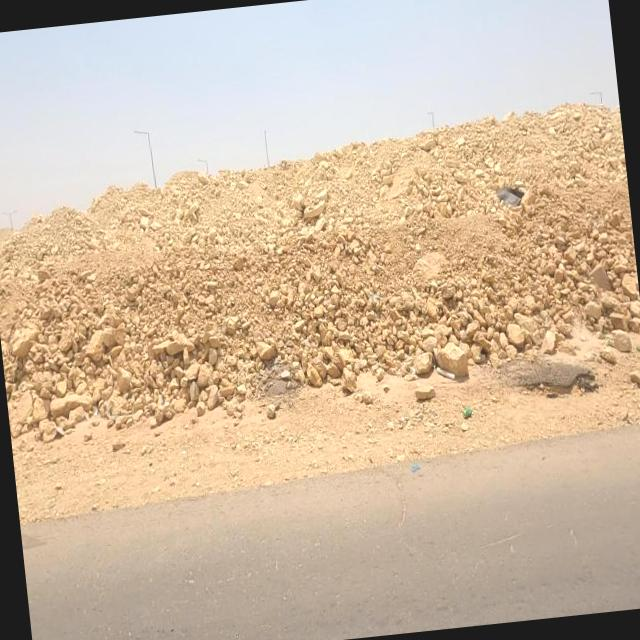debris: (407, 320, 473, 410), (432, 379, 496, 446)
